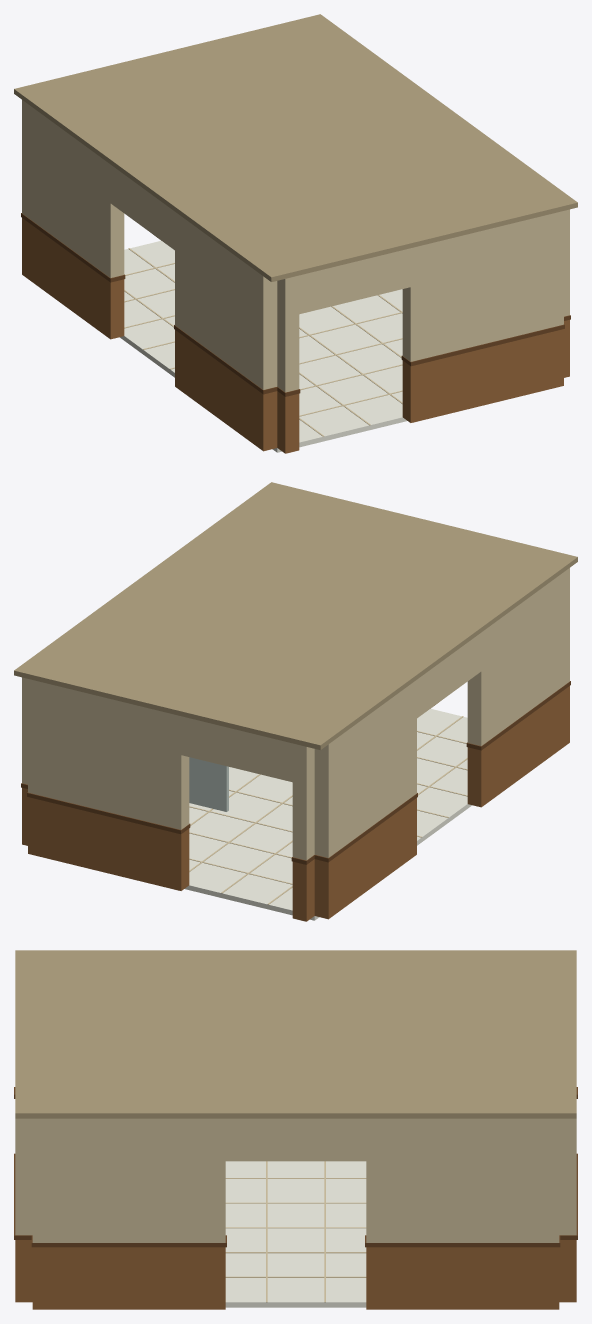
Rendered from room_shared_bathroom.glb.
3 renders of one model, top to bottom at view 1: azimuth 30°, elevation 25°; view 2: azimuth 150°, elevation 25°; view 3: azimuth 270°, elevation 25°, orthographic. The views are drawn at different scales.
Visible parts, largest first — view 1: room_shared_bathroom; view 2: room_shared_bathroom; view 3: room_shared_bathroom.
Part boxes in pixels (x1,y1,x2,y2): room_shared_bathroom: (14,14,577,453); room_shared_bathroom: (14,482,577,921); room_shared_bathroom: (14,950,577,1309).
Bounding box in the file's own units: 6.62 × 3.8 × 9.64.
1 material, 1 textured.
